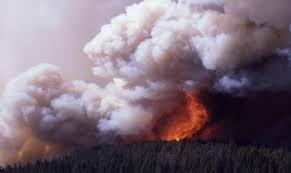fire: (151, 88, 215, 142)
yanwu: (81, 1, 290, 78), (1, 64, 152, 141)
